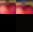heart: (0, 0, 16, 14)
sword: (16, 14, 33, 32)
